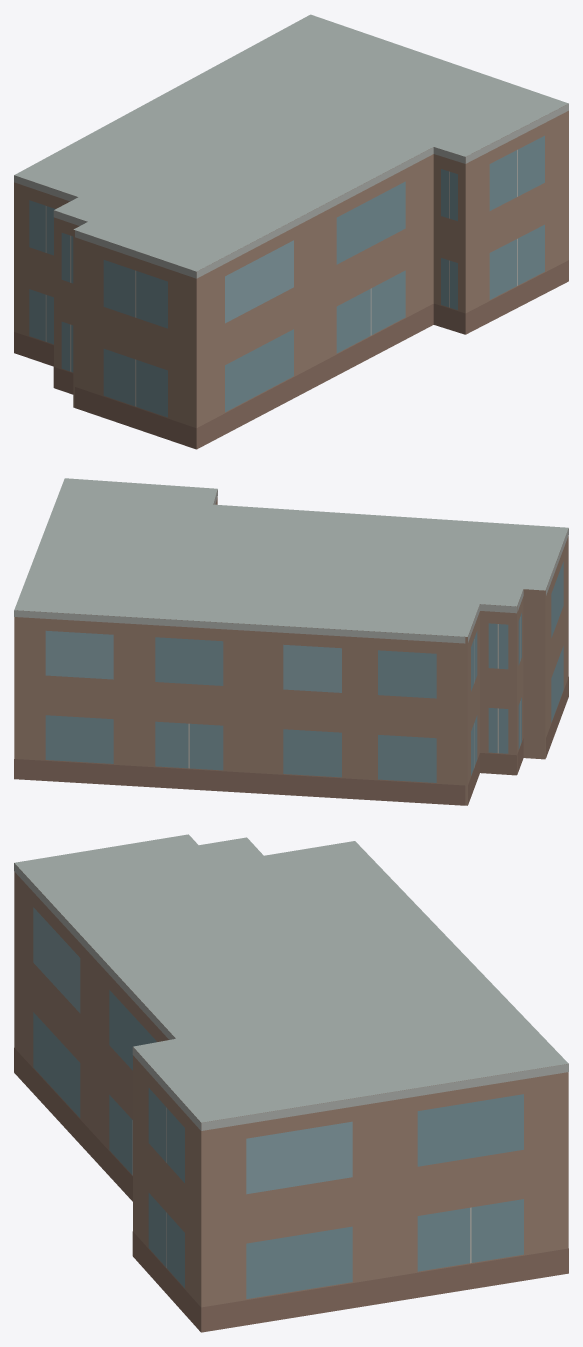
The model's file is survey-upis-32887232.glb.
The picture shows the model from 3 angles, top to bottom: view 1: azimuth 30°, elevation 25°; view 2: azimuth 150°, elevation 25°; view 3: azimuth 270°, elevation 25°; orthographic projection. The views are drawn at different scales.
Visible parts, largest first — view 1: survey-upis-32887232.tmp; view 2: survey-upis-32887232.tmp; view 3: survey-upis-32887232.tmp.
Part boxes in pixels (x1,y1,x2,y2): survey-upis-32887232.tmp: [14, 14, 568, 449]; survey-upis-32887232.tmp: [14, 478, 568, 805]; survey-upis-32887232.tmp: [14, 834, 568, 1332].
Size of the model in its own units: 17.99 by 6.1 by 14.62.
